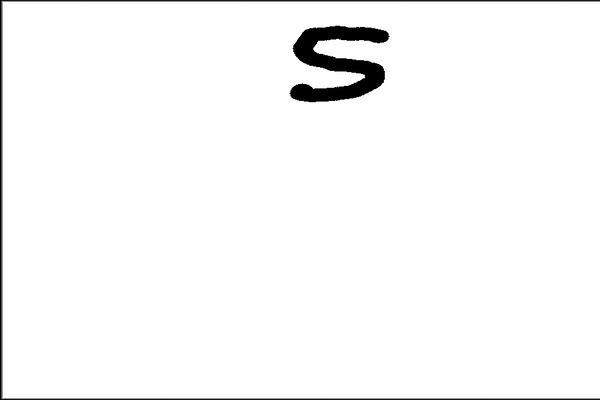S: (279, 18, 395, 107)
